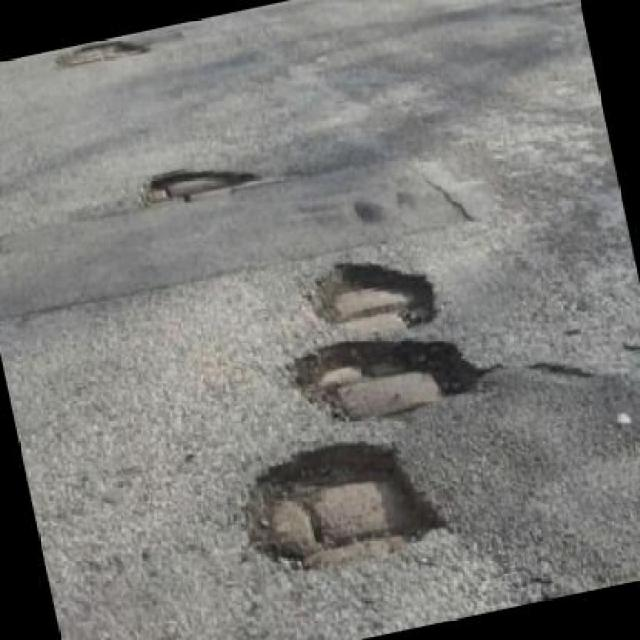pothole1: (232, 419, 454, 584), (283, 310, 492, 436), (300, 238, 442, 342), (131, 145, 264, 210), (46, 30, 154, 76)
